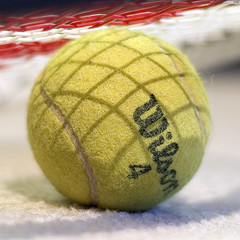tennis ball: (24, 24, 213, 214)
